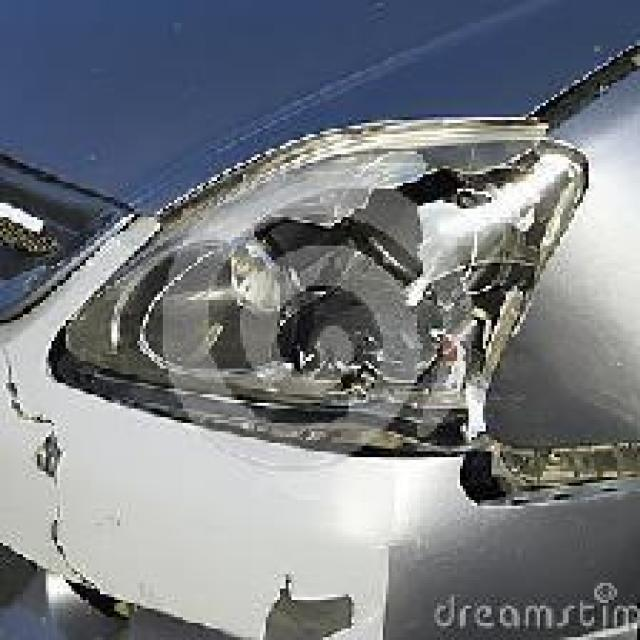damaged: (45, 122, 638, 514), (0, 351, 151, 637), (248, 574, 368, 637)
